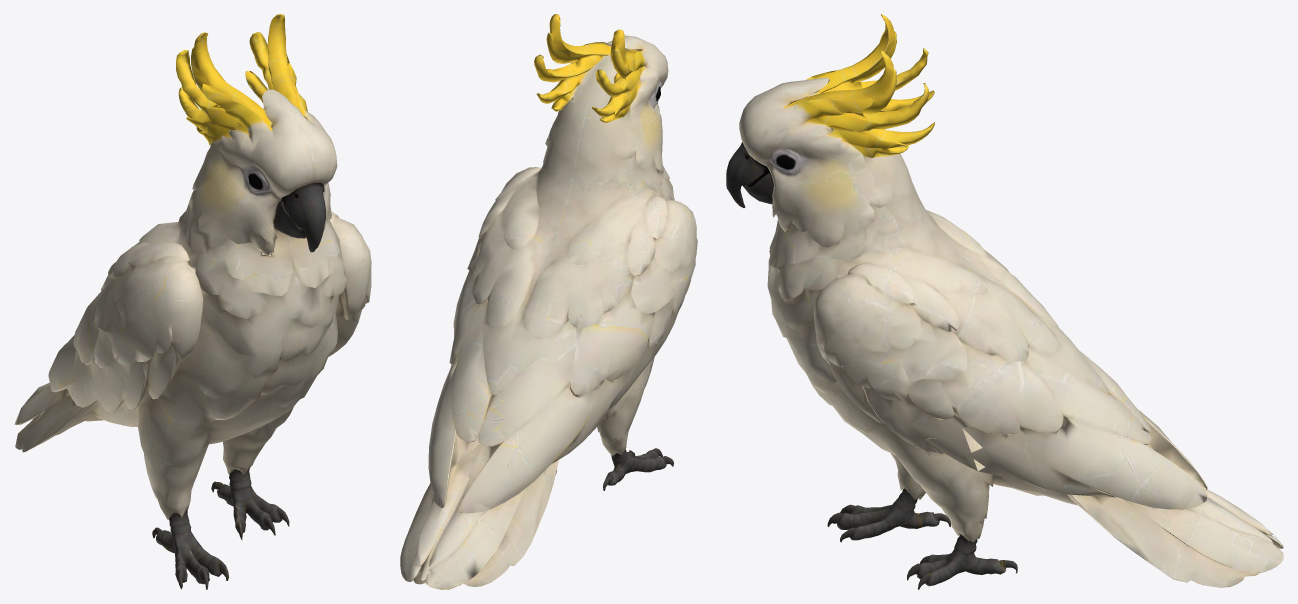
File: cockatoo-rutile.glb
The picture shows the model from 3 angles, left to right: view 1: azimuth 30°, elevation 25°; view 2: azimuth 150°, elevation 25°; view 3: azimuth 270°, elevation 25°; orthographic projection. The views are drawn at different scales.
Parts seen in each view (by area): view 1: geometry_0; view 2: geometry_0; view 3: geometry_0.
Boxes of the visible parts, box(x1,y1,x2,y2) form: geometry_0: box(14, 14, 371, 589); geometry_0: box(400, 14, 697, 589); geometry_0: box(726, 14, 1283, 589).
Size of the model in its own units: 0.4365 by 0.9517 by 0.9029.
1 material, 1 textured.
